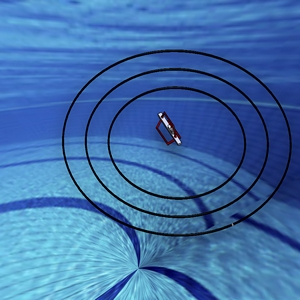circle: (50, 42, 296, 253)
submarine: (149, 101, 189, 156)
